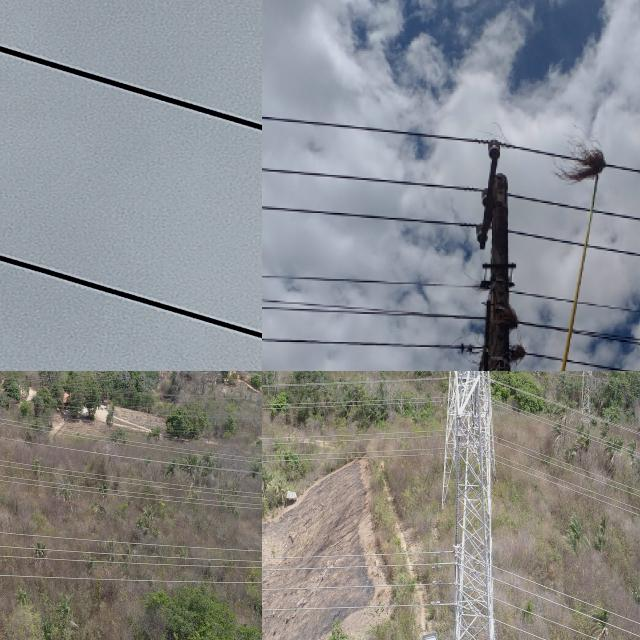杆塔: (455, 133, 527, 371), (450, 371, 498, 640)
植被遮挡: (553, 144, 609, 187)
正常电缆: (496, 439, 640, 498), (497, 461, 640, 519), (509, 567, 640, 628), (507, 580, 640, 640), (503, 596, 614, 640), (262, 445, 441, 466), (262, 556, 451, 575), (262, 577, 450, 595), (262, 598, 449, 616), (262, 546, 450, 562), (502, 617, 559, 640)
